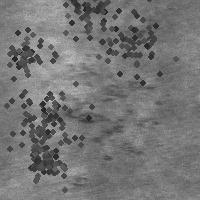rolled-in_scale: (78, 0, 184, 94), (49, 67, 154, 159), (0, 66, 93, 168), (43, 0, 127, 51), (0, 21, 54, 81), (78, 18, 153, 58), (16, 133, 68, 185)
